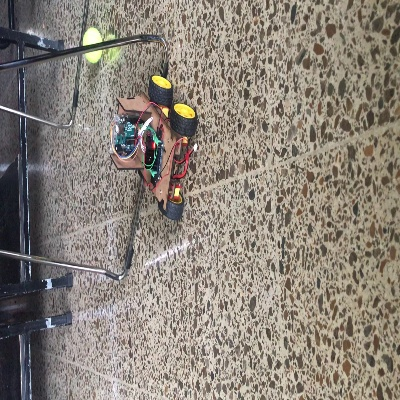Ball: (81, 27, 104, 64)
